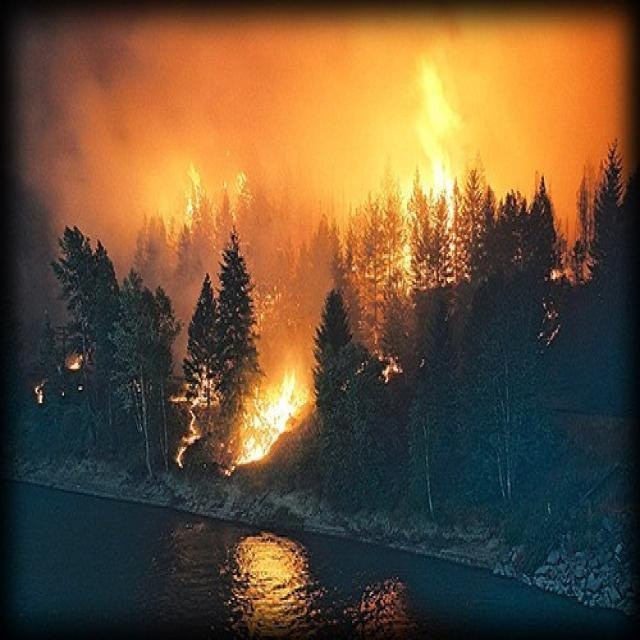Fire: (405, 64, 467, 209), (235, 364, 317, 467)
Smoke: (8, 15, 626, 398)
